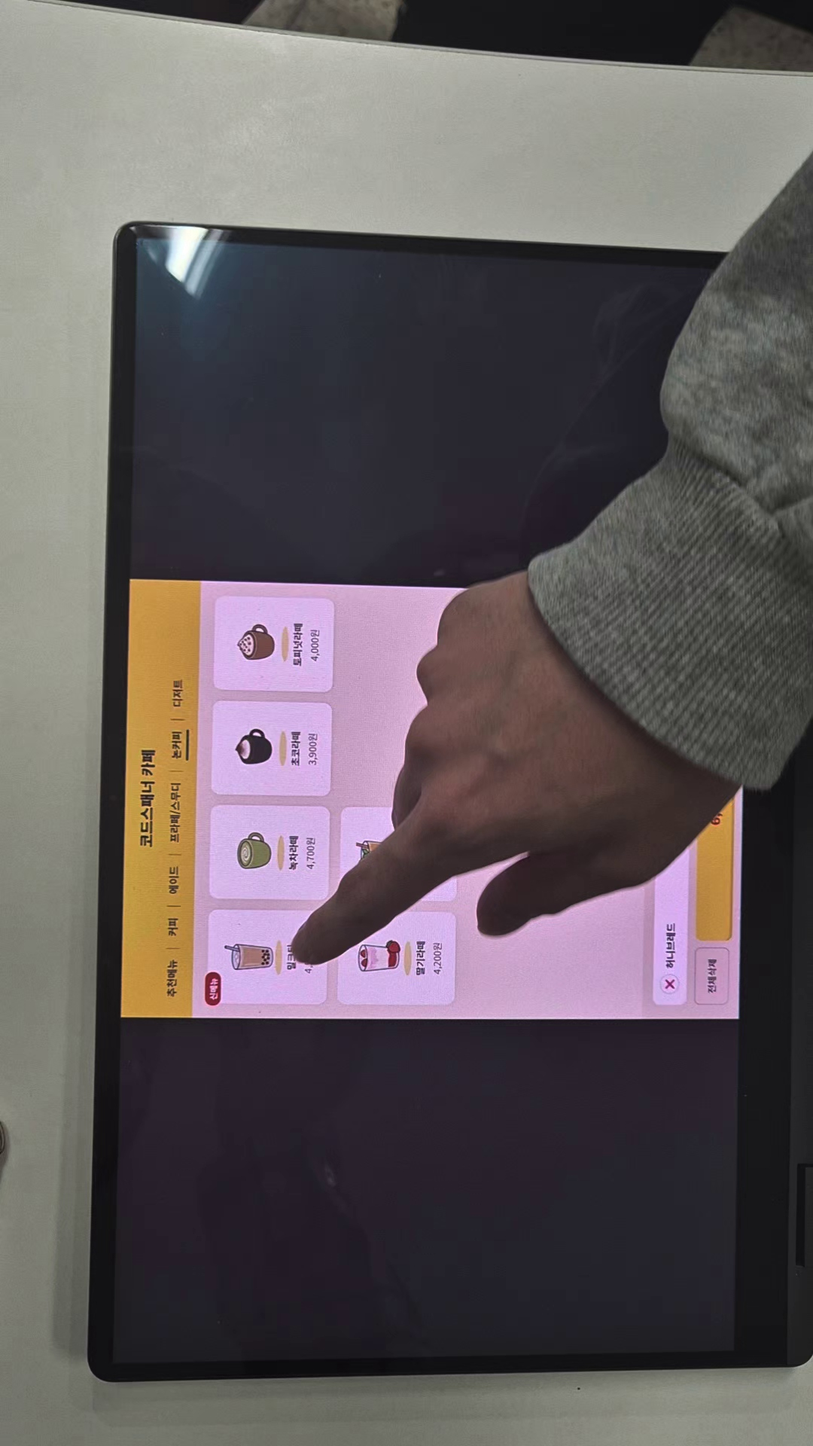action_button: (696, 946, 731, 1005)
category_tab: (165, 778, 185, 847), (164, 955, 180, 1005), (167, 674, 187, 713), (167, 728, 186, 763), (166, 863, 181, 898), (163, 911, 180, 941)
menu_back: (216, 595, 335, 692), (338, 807, 454, 903), (338, 911, 457, 1004), (210, 805, 327, 899), (213, 911, 329, 1005), (215, 701, 330, 795)
menu_name: (286, 726, 303, 771), (291, 618, 305, 668), (288, 830, 302, 874), (413, 936, 427, 979), (283, 940, 296, 972)
menu_price: (304, 727, 319, 771), (431, 938, 445, 981), (304, 831, 317, 873), (311, 627, 324, 664)
